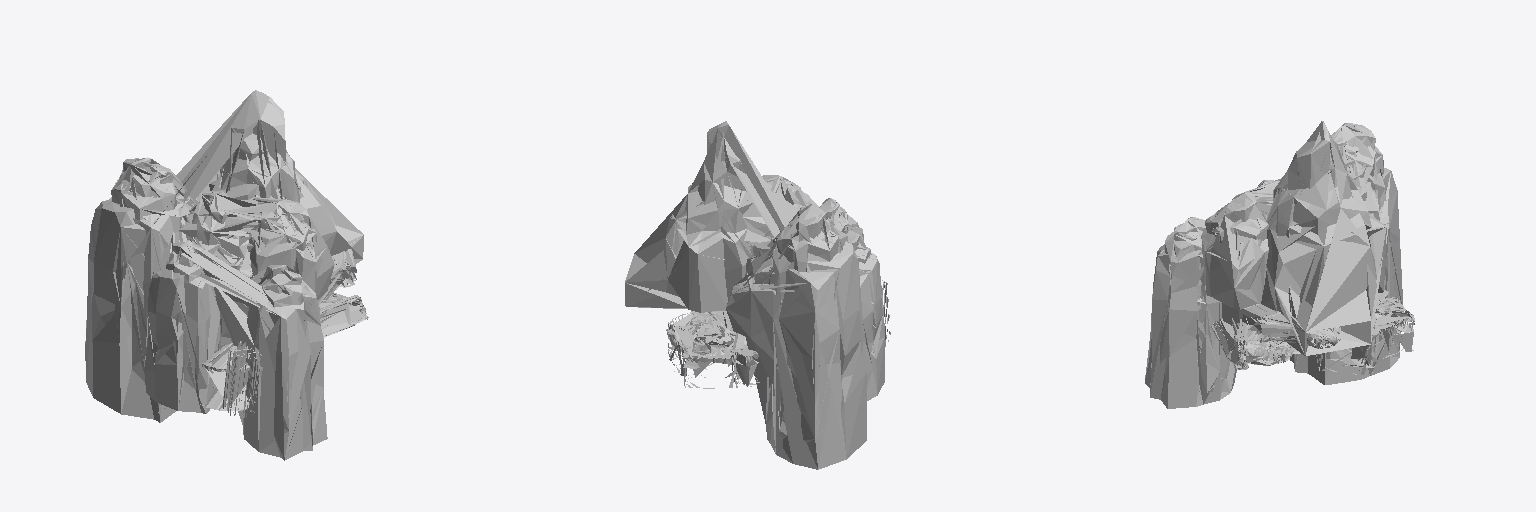
Rendered from cellQuarry_RadGordoCave_Proxy-sharedassets3.assets-612.obj.
The picture shows the model from 3 angles: view 1: azimuth 30°, elevation 25°; view 2: azimuth 150°, elevation 25°; view 3: azimuth 270°, elevation 25°; orthographic projection.
Visible parts, largest first — view 1: cellQuarry_RadGordoCave_Proxy_0, cellQuarry_RadGordoCave_Proxy_2; view 2: cellQuarry_RadGordoCave_Proxy_0, cellQuarry_RadGordoCave_Proxy_2; view 3: cellQuarry_RadGordoCave_Proxy_0, cellQuarry_RadGordoCave_Proxy_2.
Boxes of the visible parts, x1=… form: cellQuarry_RadGordoCave_Proxy_0: x1=85, y1=90, x2=368, y2=460; cellQuarry_RadGordoCave_Proxy_2: x1=85, y1=90, x2=336, y2=457; cellQuarry_RadGordoCave_Proxy_0: x1=625, y1=126, x2=890, y2=469; cellQuarry_RadGordoCave_Proxy_2: x1=666, y1=121, x2=884, y2=467; cellQuarry_RadGordoCave_Proxy_0: x1=1145, y1=121, x2=1414, y2=408; cellQuarry_RadGordoCave_Proxy_2: x1=1145, y1=121, x2=1402, y2=408.
Size of the model in its own units: 118 by 136 by 115.